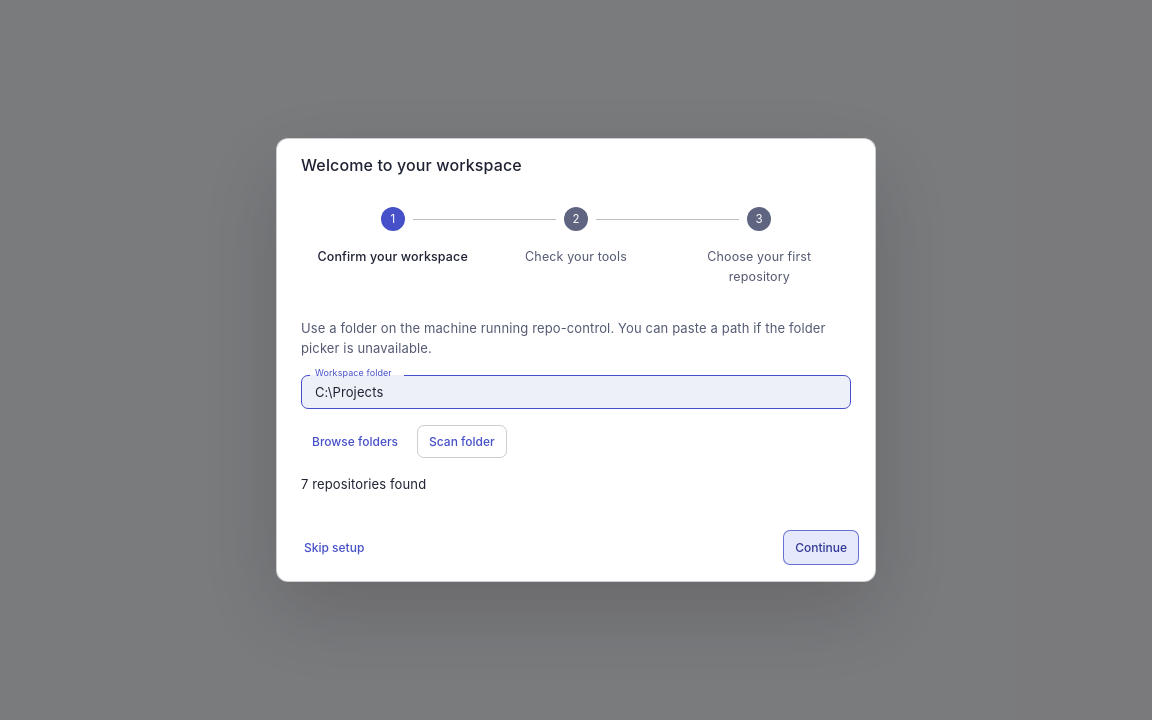
Test: does not interrupt completed users but can be reopened
The image size is (1152, 720).
Check: the dialog is shown, box [276,138,876,582]
Click the button "Continue" at coordinates (821, 548), box [783,530,859,565]
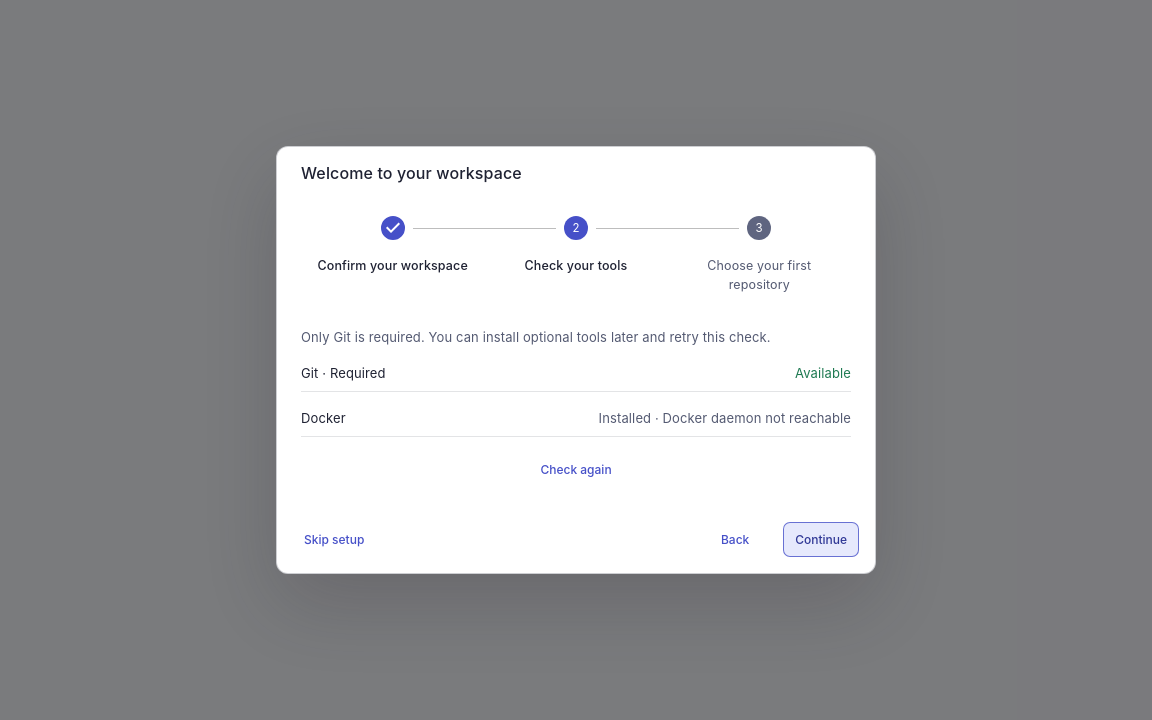
Click the button "Back" at coordinates (735, 540), box [703,523,767,556]
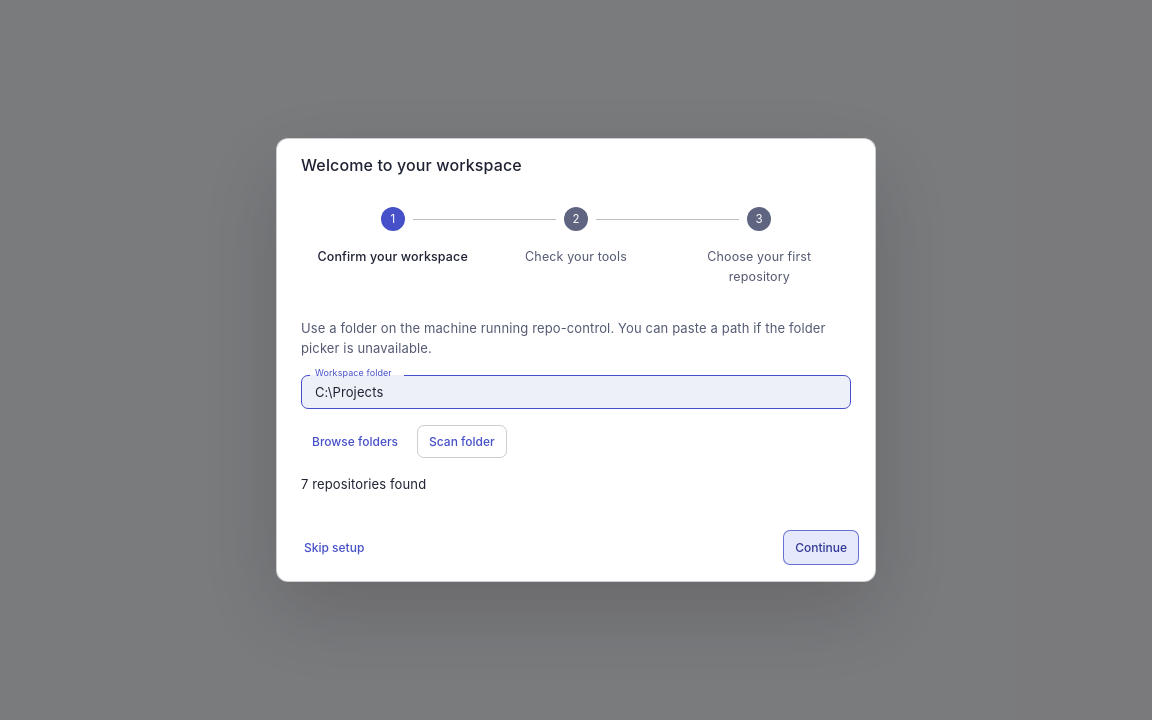
Check: the field labelled "Workspace folder" is shown, box [301,374,851,409]
